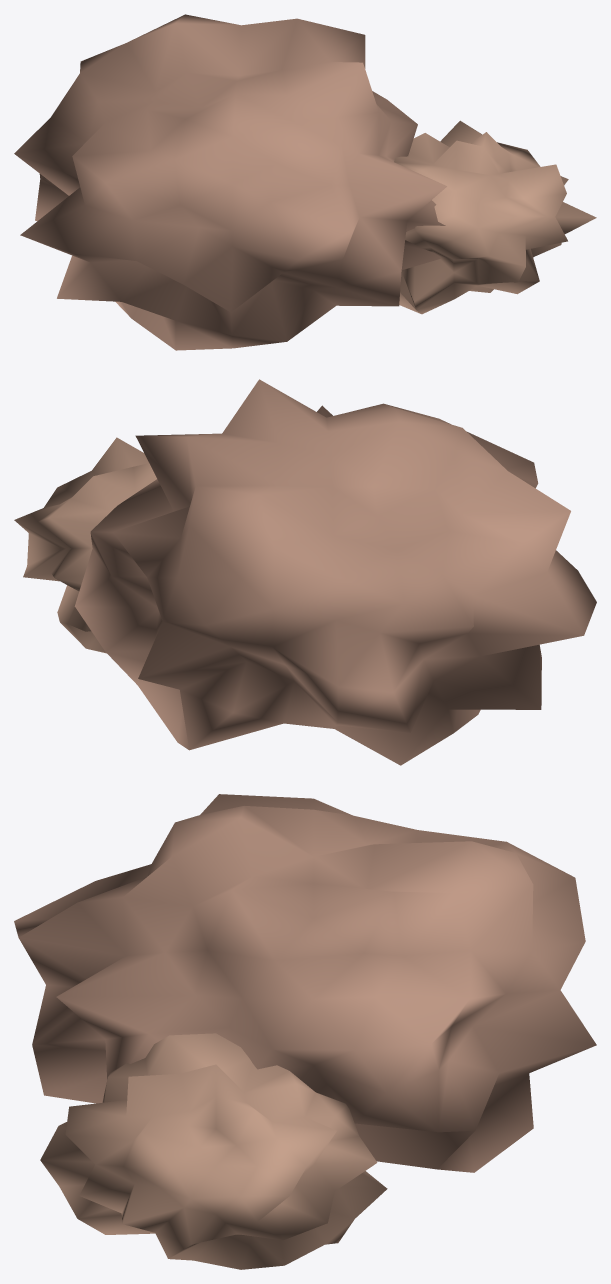
The model's file is desert-rock.gltf.
The picture shows the model from 3 angles, top to bottom: view 1: azimuth 30°, elevation 25°; view 2: azimuth 150°, elevation 25°; view 3: azimuth 270°, elevation 25°; orthographic projection. The views are drawn at different scales.
Parts seen in each view (by area): view 1: desert-rock; view 2: desert-rock; view 3: desert-rock.
Part boxes in pixels (x1,y1,x2,y2): desert-rock: (14, 14, 596, 350); desert-rock: (14, 379, 596, 765); desert-rock: (14, 794, 596, 1269).
Bounding box in the file's own units: 2.64 × 1.22 × 2.09.
